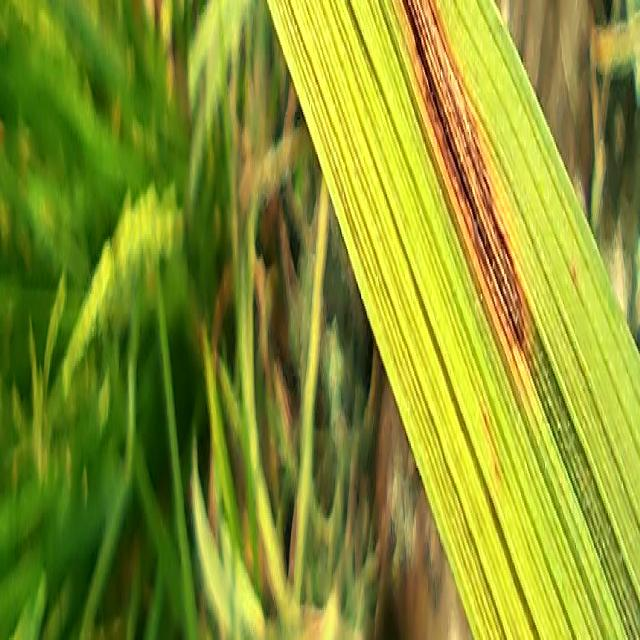LEAF BLAST: (397, 0, 534, 400)
